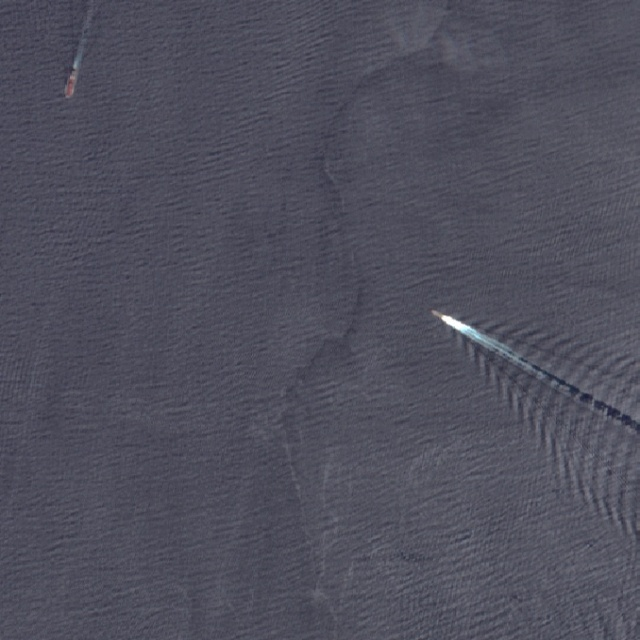wake: (408, 269, 606, 436)
